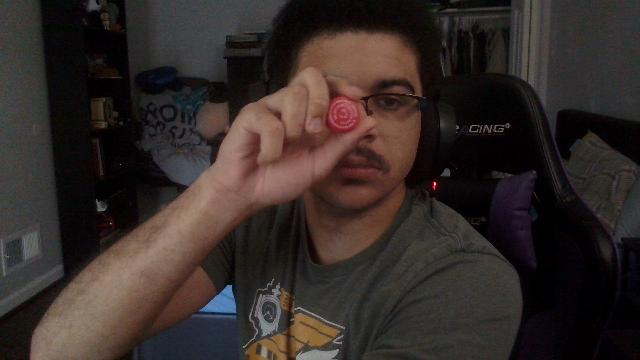cap: (326, 97, 360, 133)
